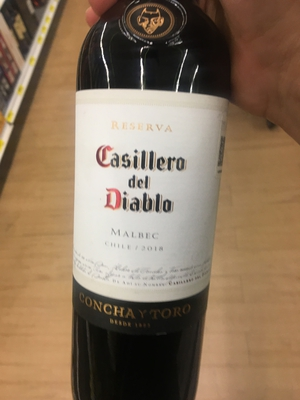casillero del diablo malbec: (63, 41, 249, 400)
